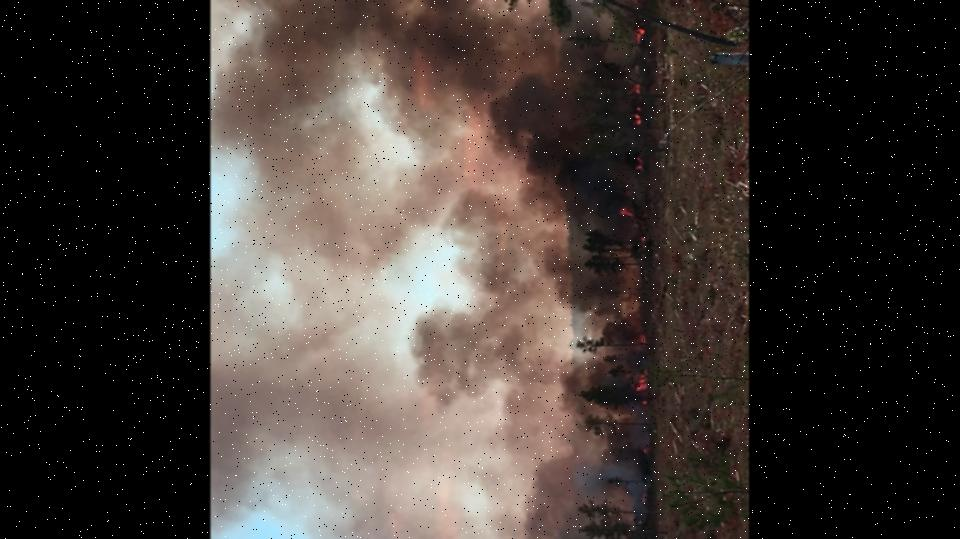fire: (608, 8, 670, 539)
